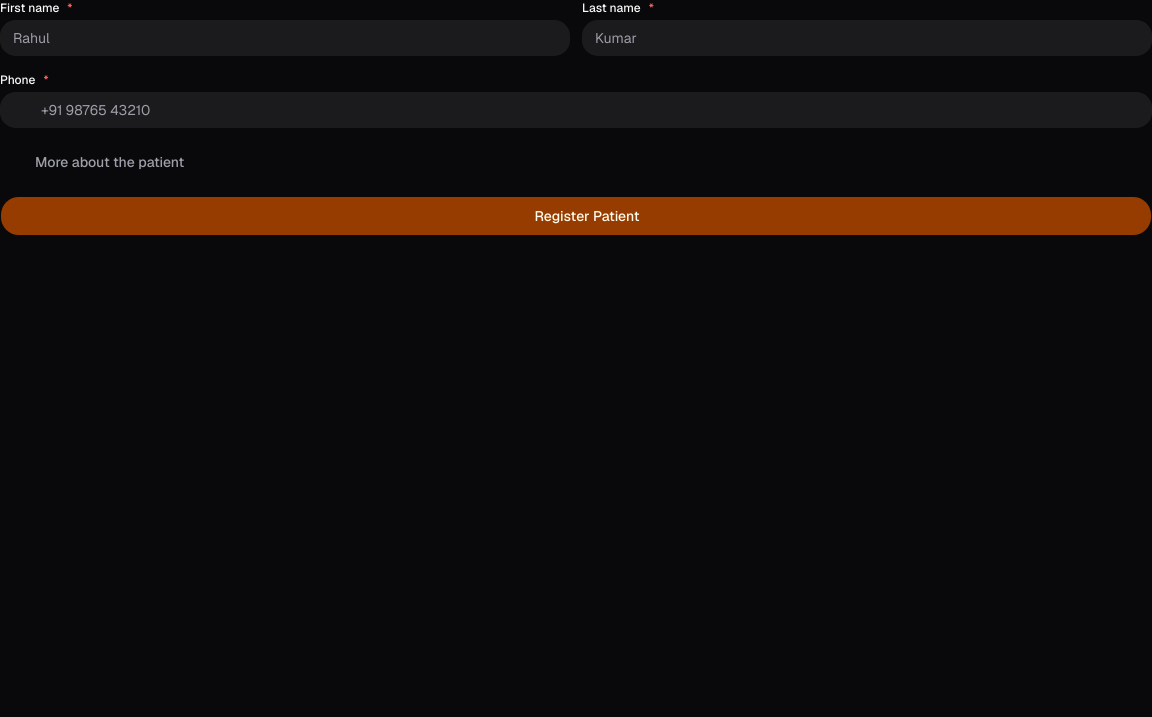
Test case: PatientRegistrationForm › shows optional fields when toggled
Click the button "More about the patient" at point(110, 162), box x1=0 y1=144 x2=1151 y2=180
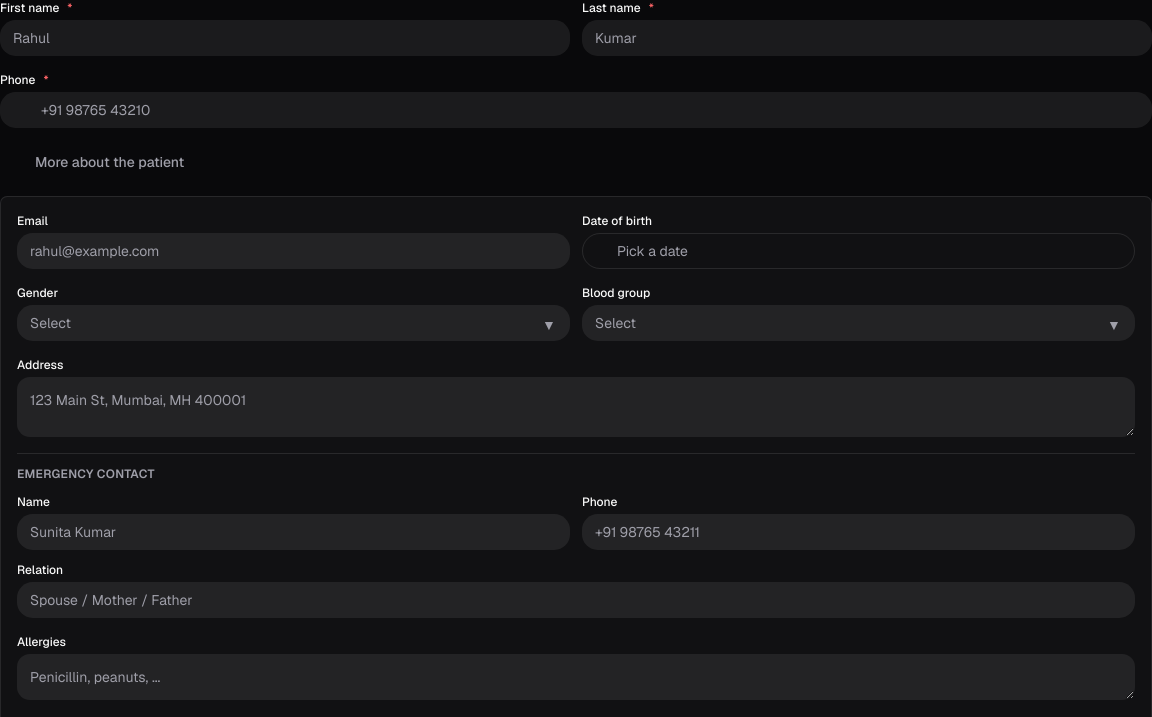
Result: the field with placeholder "rahul@example.com" is shown at x1=17 y1=233 x2=570 y2=269
